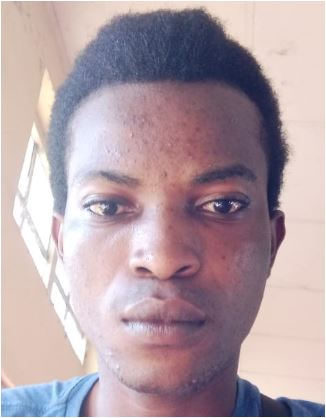without_facemask: (68, 247, 281, 390)
